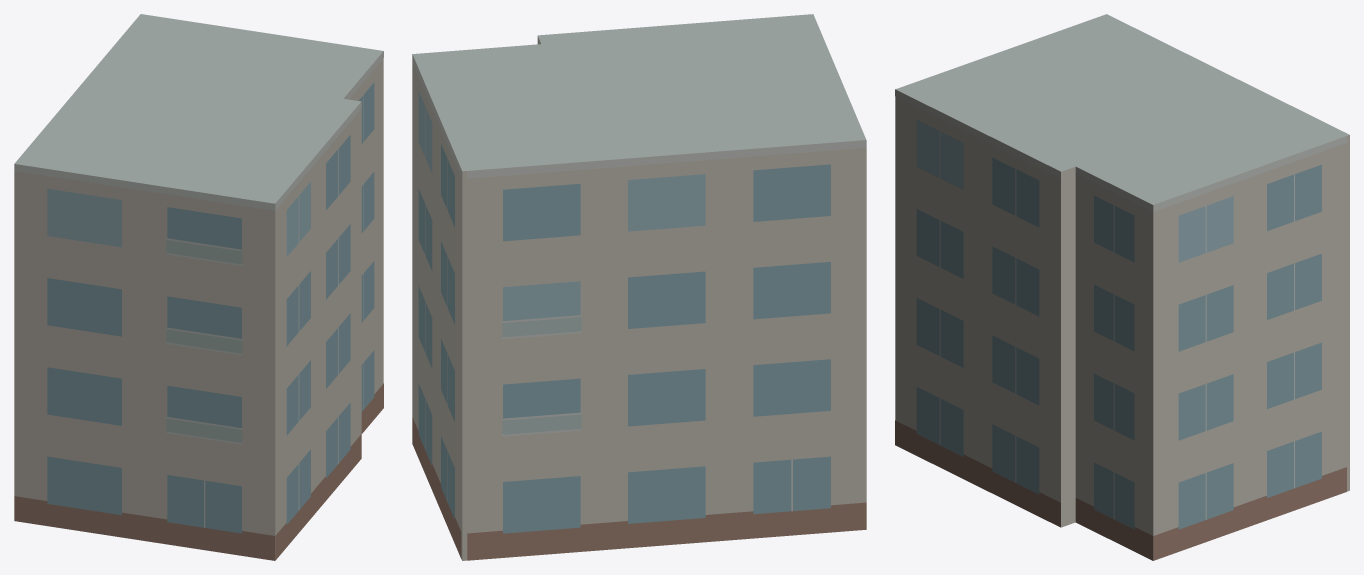
Rendered from survey-upis-32779249.glb.
3 renders of one model, left to right at view 1: azimuth 30°, elevation 25°; view 2: azimuth 150°, elevation 25°; view 3: azimuth 270°, elevation 25°, orthographic. The views are drawn at different scales.
Parts seen in each view (by area): view 1: survey-upis-32779249.tmp; view 2: survey-upis-32779249.tmp; view 3: survey-upis-32779249.tmp.
Part boxes in pixels (x1,y1,x2,y2): survey-upis-32779249.tmp: (14, 14, 383, 560); survey-upis-32779249.tmp: (412, 14, 866, 560); survey-upis-32779249.tmp: (895, 14, 1349, 560).
Size of the model in its own units: 14.28 by 12.4 by 14.36.
